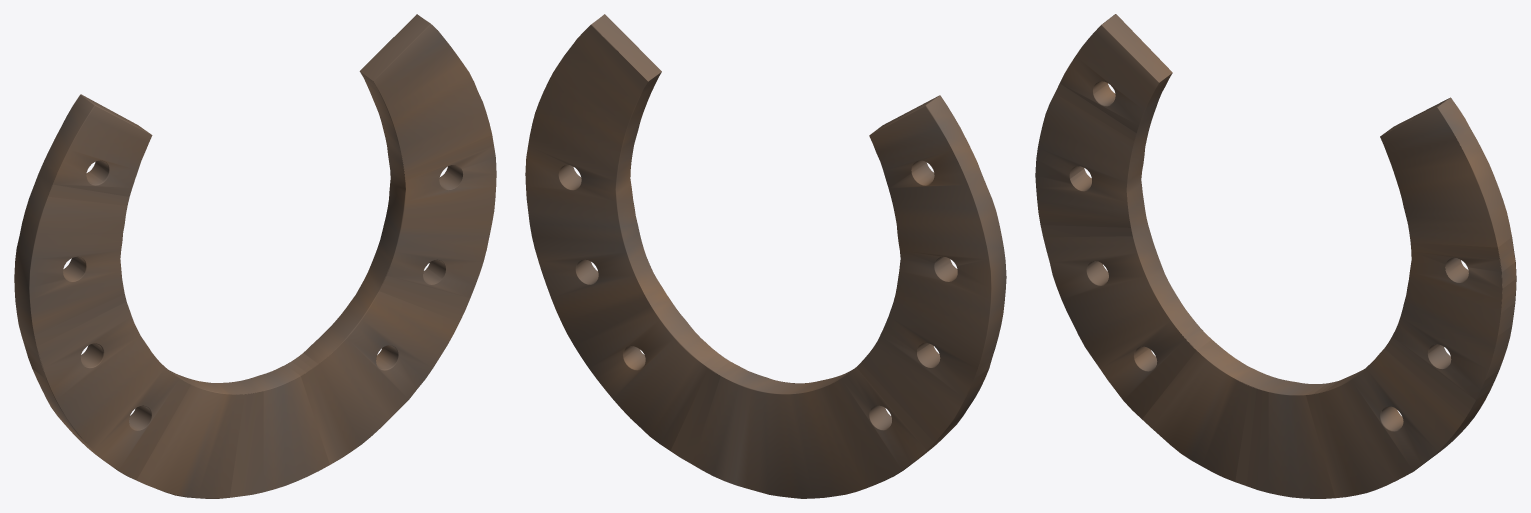
The model's file is herradura.glb.
The picture shows the model from 3 angles, left to right: view 1: azimuth 30°, elevation 25°; view 2: azimuth 150°, elevation 25°; view 3: azimuth 330°, elevation 25°; orthographic projection.
Visible parts, largest first — view 1: Herradura; view 2: Herradura; view 3: Herradura.
Boxes of the visible parts, <box> form: Herradura: <box>14,14,496,498</box>; Herradura: <box>525,14,1006,498</box>; Herradura: <box>1035,14,1516,498</box>.
Size of the model in its own units: 0.1293 by 0.1131 by 0.00792.
